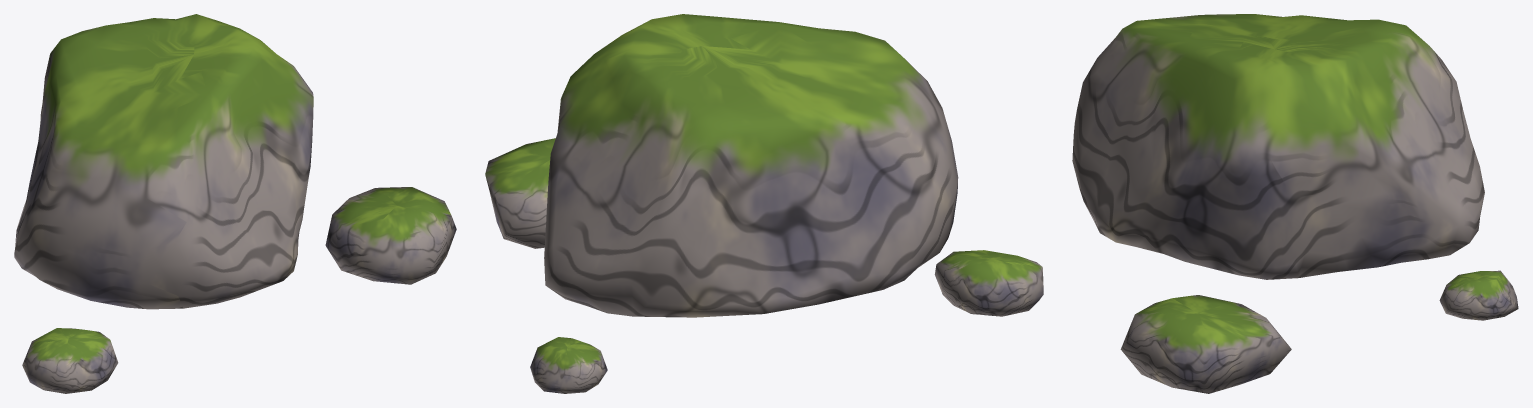
File: rocher.glb
3 renders of one model, left to right at view 1: azimuth 30°, elevation 25°; view 2: azimuth 150°, elevation 25°; view 3: azimuth 270°, elevation 25°, orthographic. The views are drawn at different scales.
Visible parts, largest first — view 1: rocher; view 2: rocher; view 3: rocher.
Part boxes in pixels (x1,y1,x2,y2): rocher: (14,14,456,393); rocher: (485,14,1043,393); rocher: (1072,14,1518,393).
Size of the model in its own units: 1.97 by 0.9856 by 1.56.
Materials: 1 (1 with a texture image).
